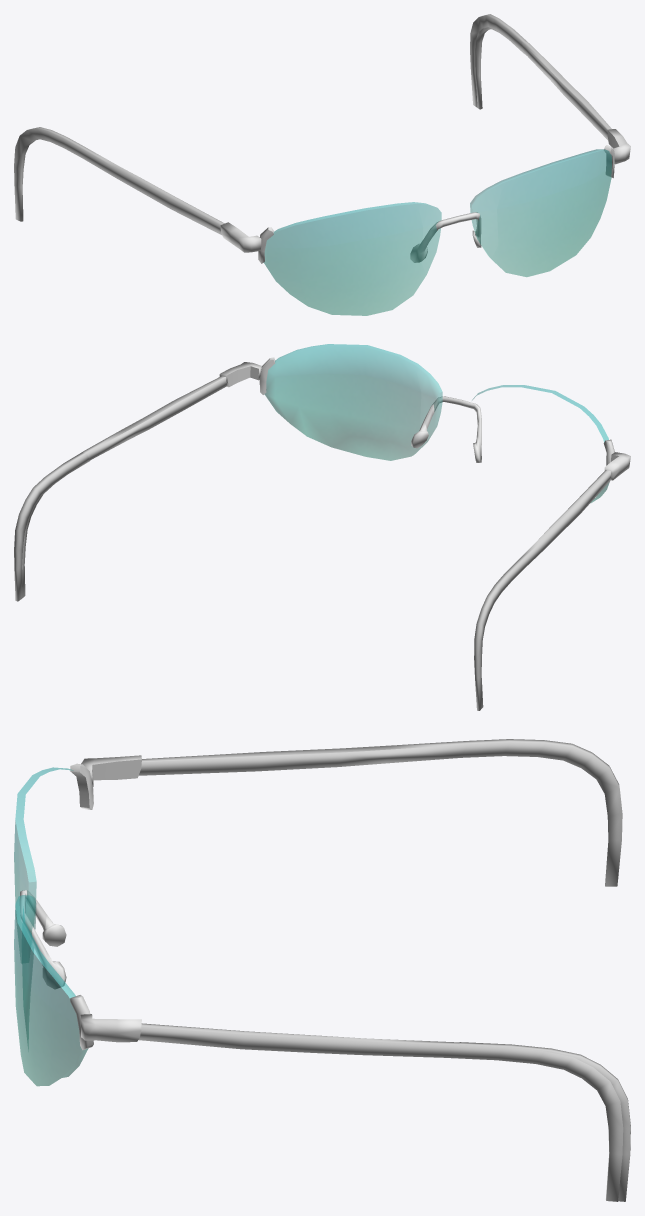
3 views of the same model, one above another, from view 1: azimuth 30°, elevation 25°; view 2: azimuth 150°, elevation 25°; view 3: azimuth 270°, elevation 25° (orthographic). The views are drawn at different scales.
Visible parts, largest first — view 1: Wolf3D_Glasses; view 2: Wolf3D_Glasses; view 3: Wolf3D_Glasses.
Part boxes in pixels (left/top/right/bottom): Wolf3D_Glasses: left=14, top=14, right=630, bottom=315; Wolf3D_Glasses: left=14, top=344, right=630, bottom=710; Wolf3D_Glasses: left=14, top=739, right=630, bottom=1201.
Bounding box in the file's own units: 0.1629 × 0.0444 × 0.1338.
1 material, 1 textured.
